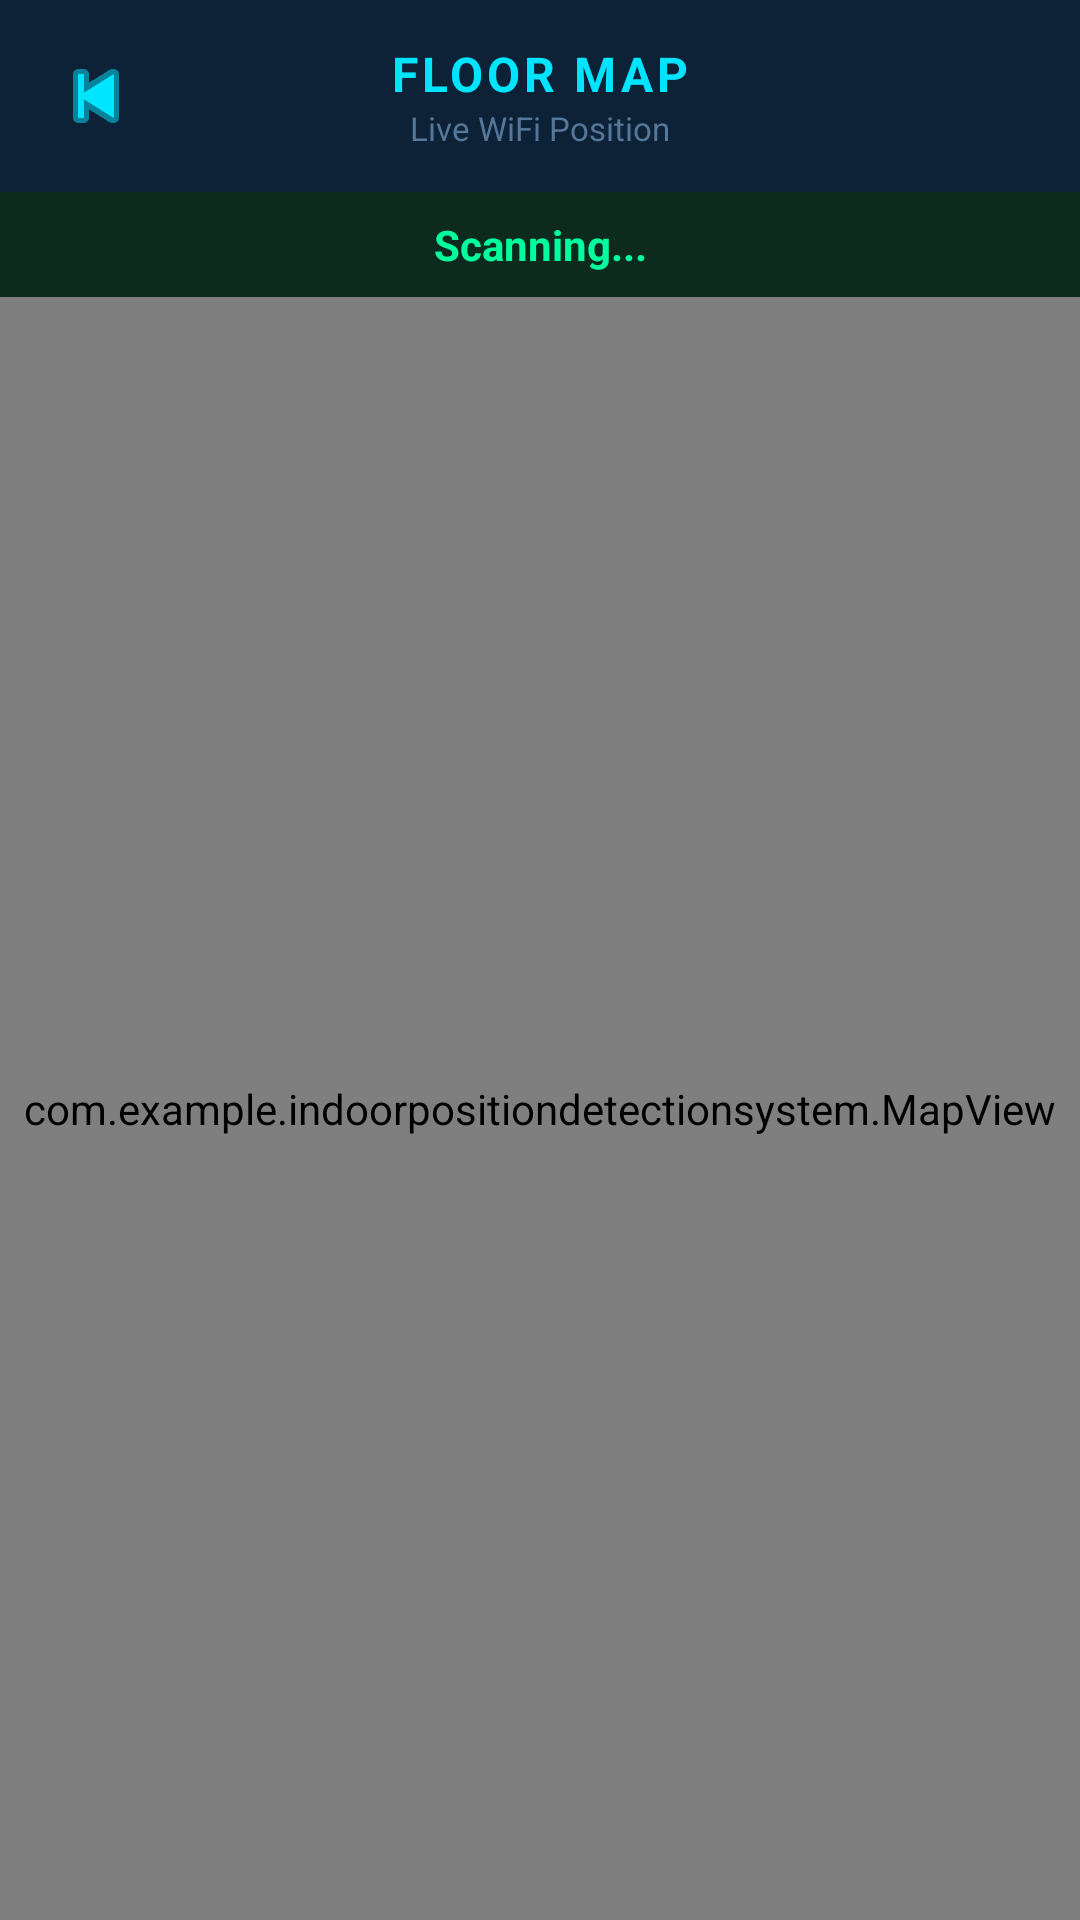

Where to tap for icons on this 1080px x 1920px app screen, as [x,y]:
Back: [96,96]
